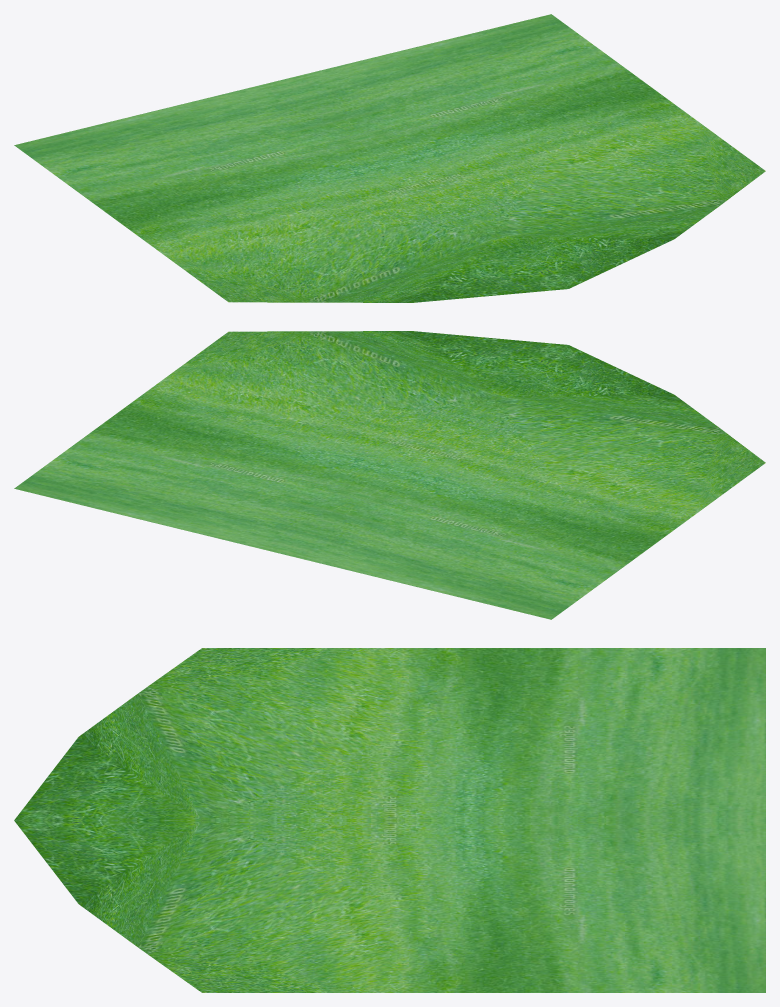
Rendered from ground.FBX.
The picture shows the model from 3 angles, top to bottom: view 1: azimuth 30°, elevation 25°; view 2: azimuth 150°, elevation 25°; view 3: azimuth 270°, elevation 25°; orthographic projection. The views are drawn at different scales.
Visible parts, largest first — view 1: Plane001; view 2: Plane001; view 3: Plane001.
Boxes of the visible parts, x1,y1,x2,y2 form: Plane001: (14,14,765,302); Plane001: (14,331,765,619); Plane001: (14,648,765,992).
Bounding box in the file's own units: 216 × 199 × 0.
Materials: 1 (1 with a texture image).
